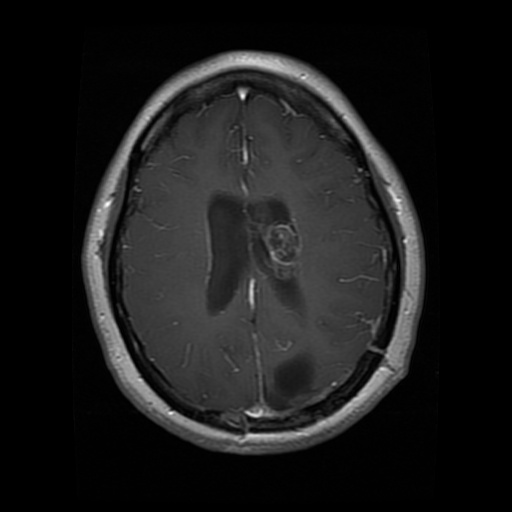glioma: (245, 194, 306, 285)
